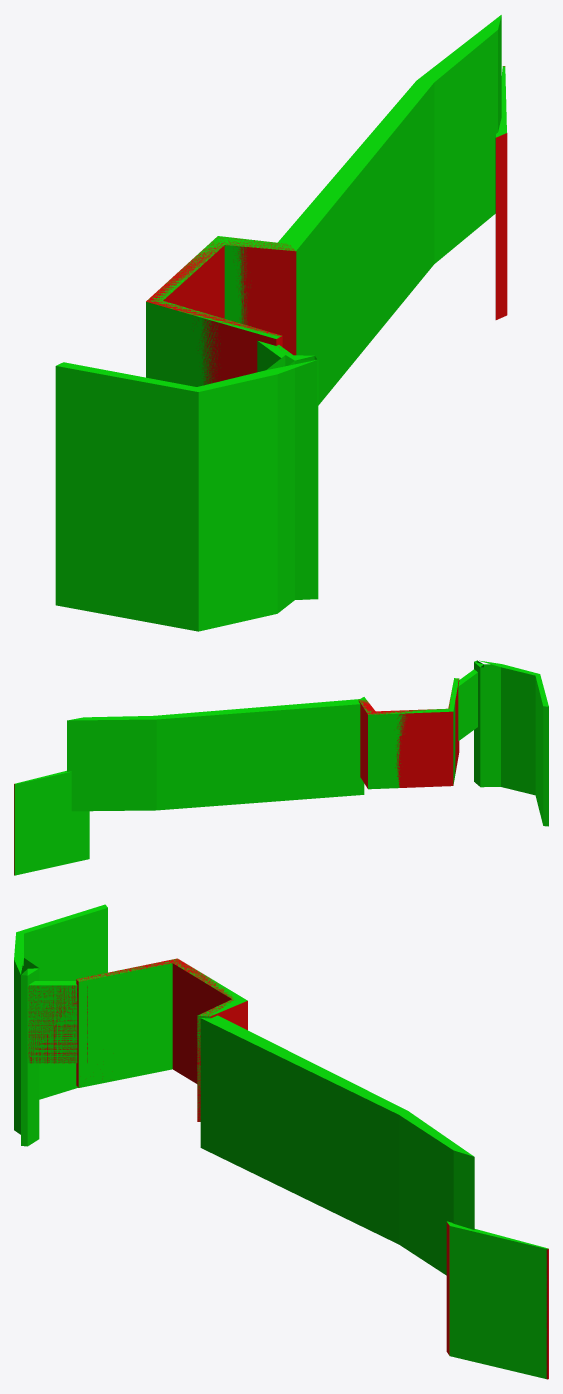
File: InvisibleWall_010.fbx
The picture shows the model from 3 angles, top to bottom: view 1: azimuth 30°, elevation 25°; view 2: azimuth 150°, elevation 25°; view 3: azimuth 270°, elevation 25°; orthographic projection. The views are drawn at different scales.
Visible parts, largest first — view 1: Designer113, Designer138, InvisibleWall_010_Phys, Designer125; view 2: Designer138, Designer113, Designer119, InvisibleWall_010_Phys, Designer125, Designer136; view 3: Designer138, Designer119, Designer125, Designer113, InvisibleWall_010_Phys, Designer136.
Part boxes in pixels (x1,y1,x2,y2): Designer113: (55,355,318,631); Designer138: (278,15,501,405); InvisibleWall_010_Phys: (146,66,507,385); Designer125: (146,236,295,386); Designer138: (67,699,364,811); Designer113: (474,660,548,826); Designer119: (14,770,89,875); InvisibleWall_010_Phys: (14,679,459,875); Designer125: (359,678,458,789); Designer136: (458,669,477,740); Designer138: (200,1015,474,1275); Designer119: (447,1221,548,1378); Designer125: (76,959,247,1121); Designer113: (14,904,107,1146); InvisibleWall_010_Phys: (28,958,548,1379); Designer136: (28,981,87,1063).
Size of the model in its own units: 14808 by 5498 by 12656.
